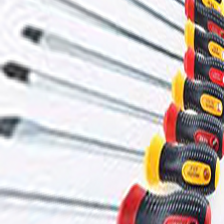screwdriver: (1, 115, 216, 224)
